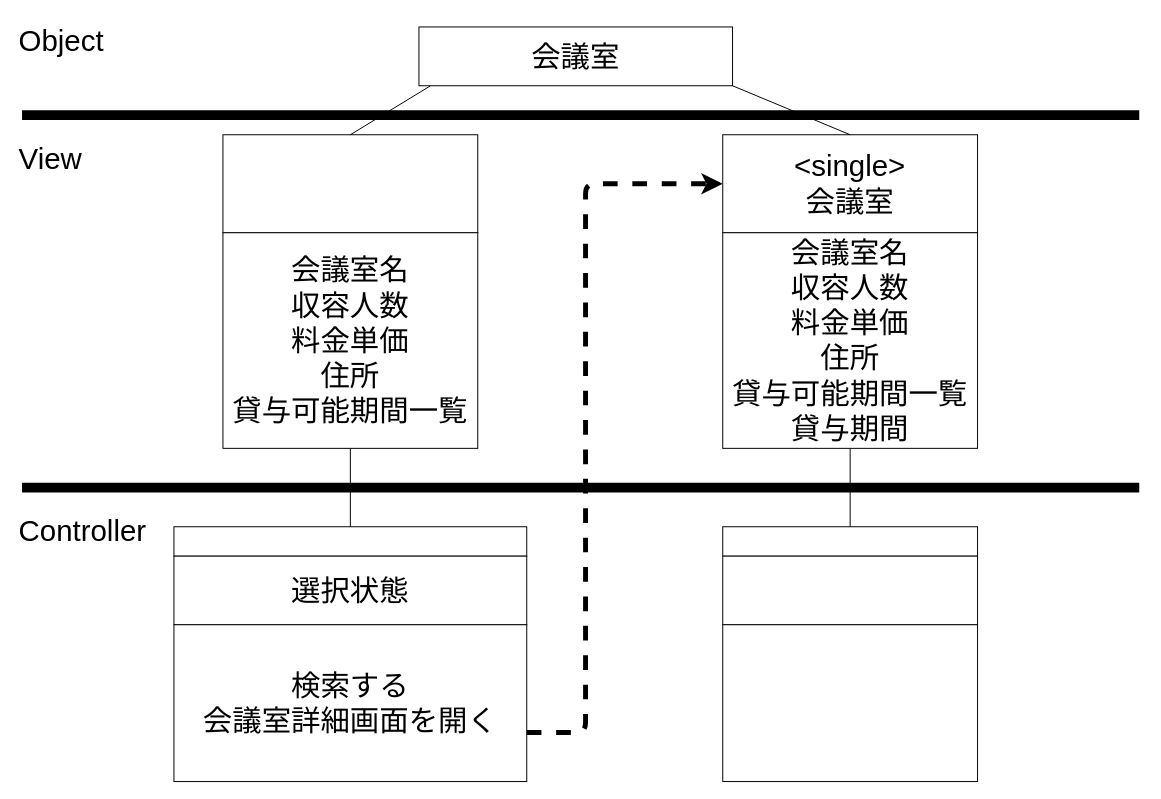
Some shapes in this 1161 by 799 pixel diagram are drawn without their labels. The box of each missing label's shape, as (x1, y1, x2, y2) in pixels:
<collection> 会議室: (222, 134, 478, 233)
予約する: (722, 624, 978, 782)
貸与期間: (722, 555, 978, 625)
